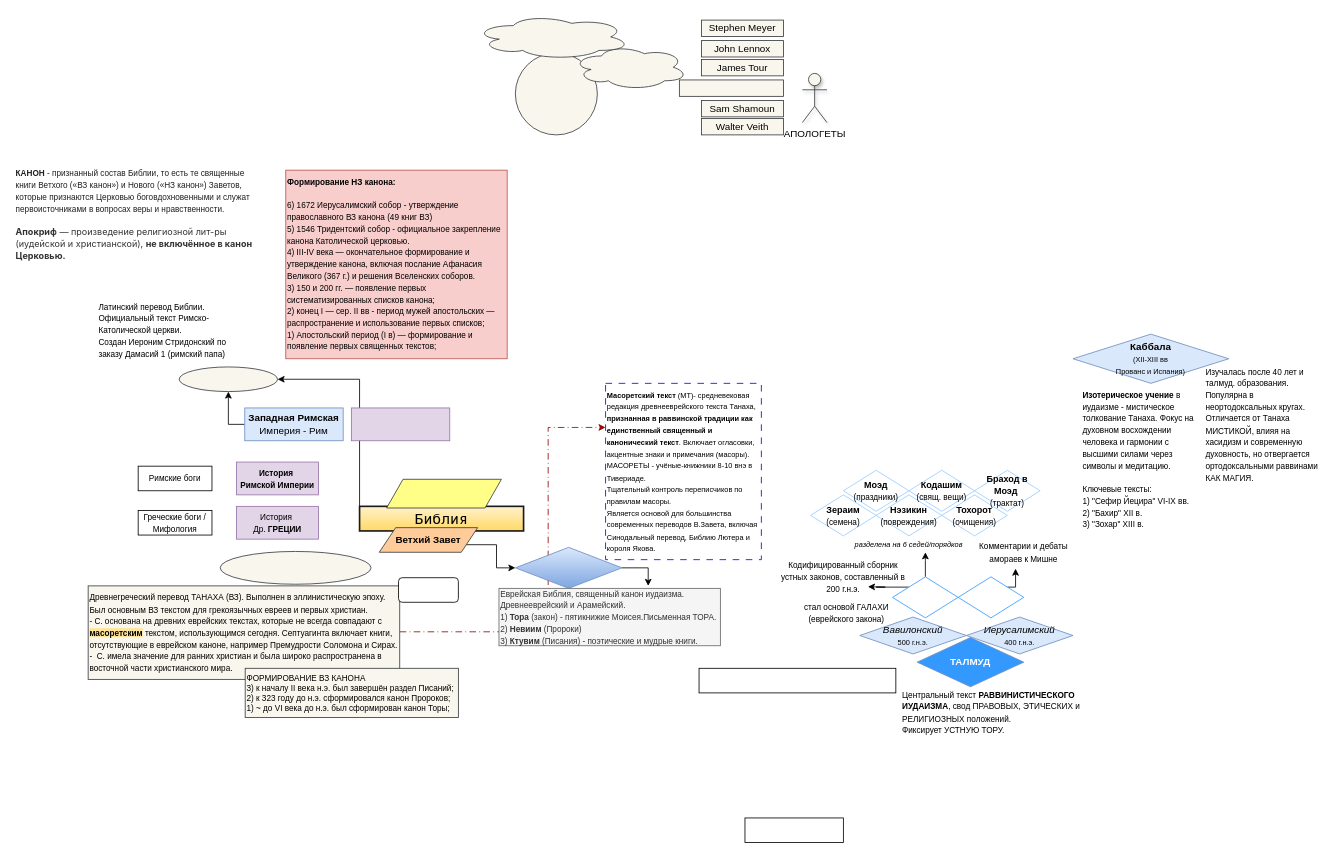
This 1333x857 diagram has some shape labels left out. Each missing label, with the centre of its shape:
"10 заповедей Исх.20, Вт 5" belongs at [428,589].
"Daily Dose of Wisdom" belongs at [731,87].
"Восточная Римская Империя - Византия" belongs at [400,424].
"Вульгата (IV-V в.н.э.)" belongs at [228,379].
"Гемара" belongs at [990,597].
"История Израиля" belongs at [793,830].
"ИУДАИЗМ" belongs at [797,680].
"Мишна" belongs at [925,597].
"Молекулярная Биология / ДНК" belongs at [552,36].
"Новый Завет (ГРЕЧЕСКИЙ язык)" belongs at [443,493].
"Происхождение ЖИЗНИ" belongs at [556,93].
"Септуагинта (LXX) III-I в до нэ в Александрии (Египет)" belongs at [295,567].
"ТАНАХ" belongs at [568,567].
"Эволюция ПостДарвинизм" belongs at [630,67].
